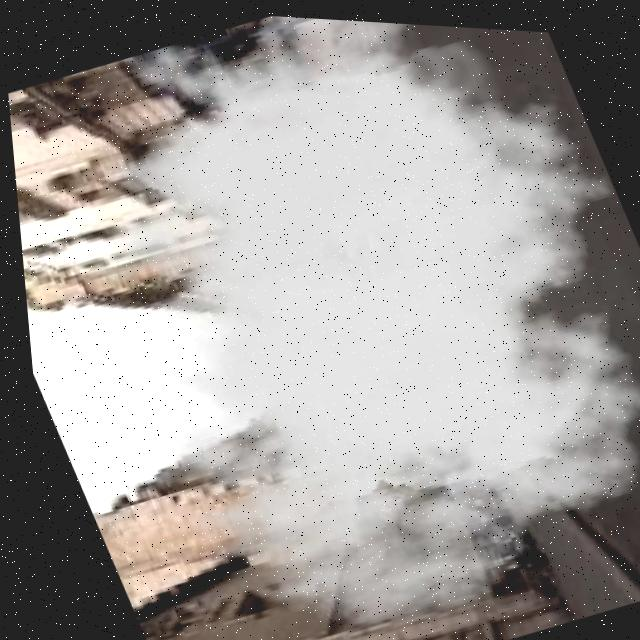Smoke: (6, 12, 640, 640)
